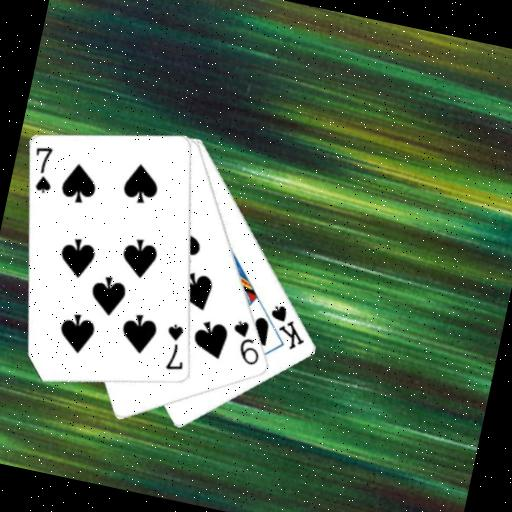7S: (157, 319, 194, 374), (24, 141, 61, 196)
9S: (223, 315, 268, 369)
KS: (261, 299, 313, 353)
